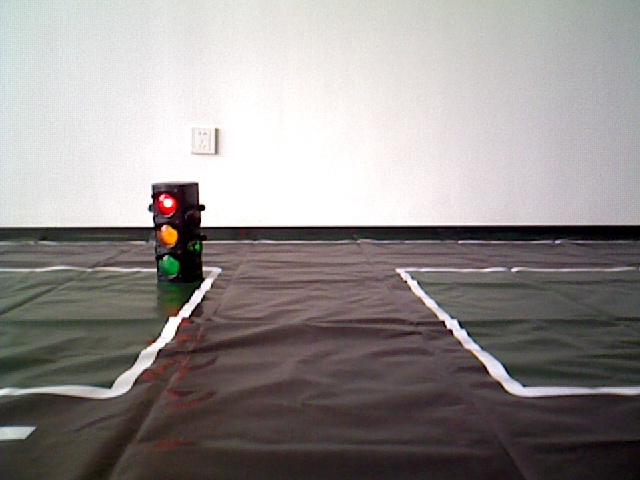red: (152, 184, 202, 286)
